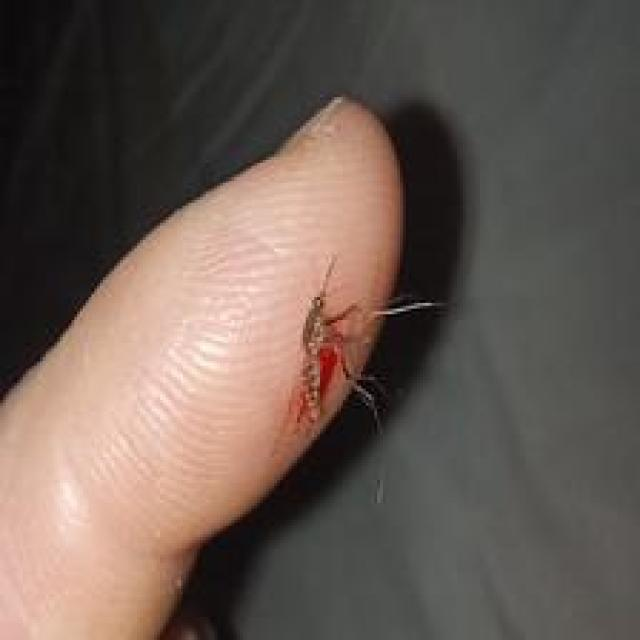Culex: (287, 253, 447, 436)
